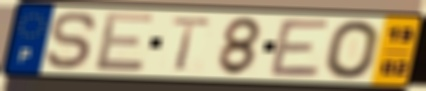8: (215, 15, 264, 77)
E: (267, 17, 333, 79), (93, 10, 157, 73)
O: (323, 18, 383, 81)
S: (43, 10, 100, 72)
T: (167, 15, 216, 73)
